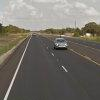Car: (49, 32, 77, 52)
